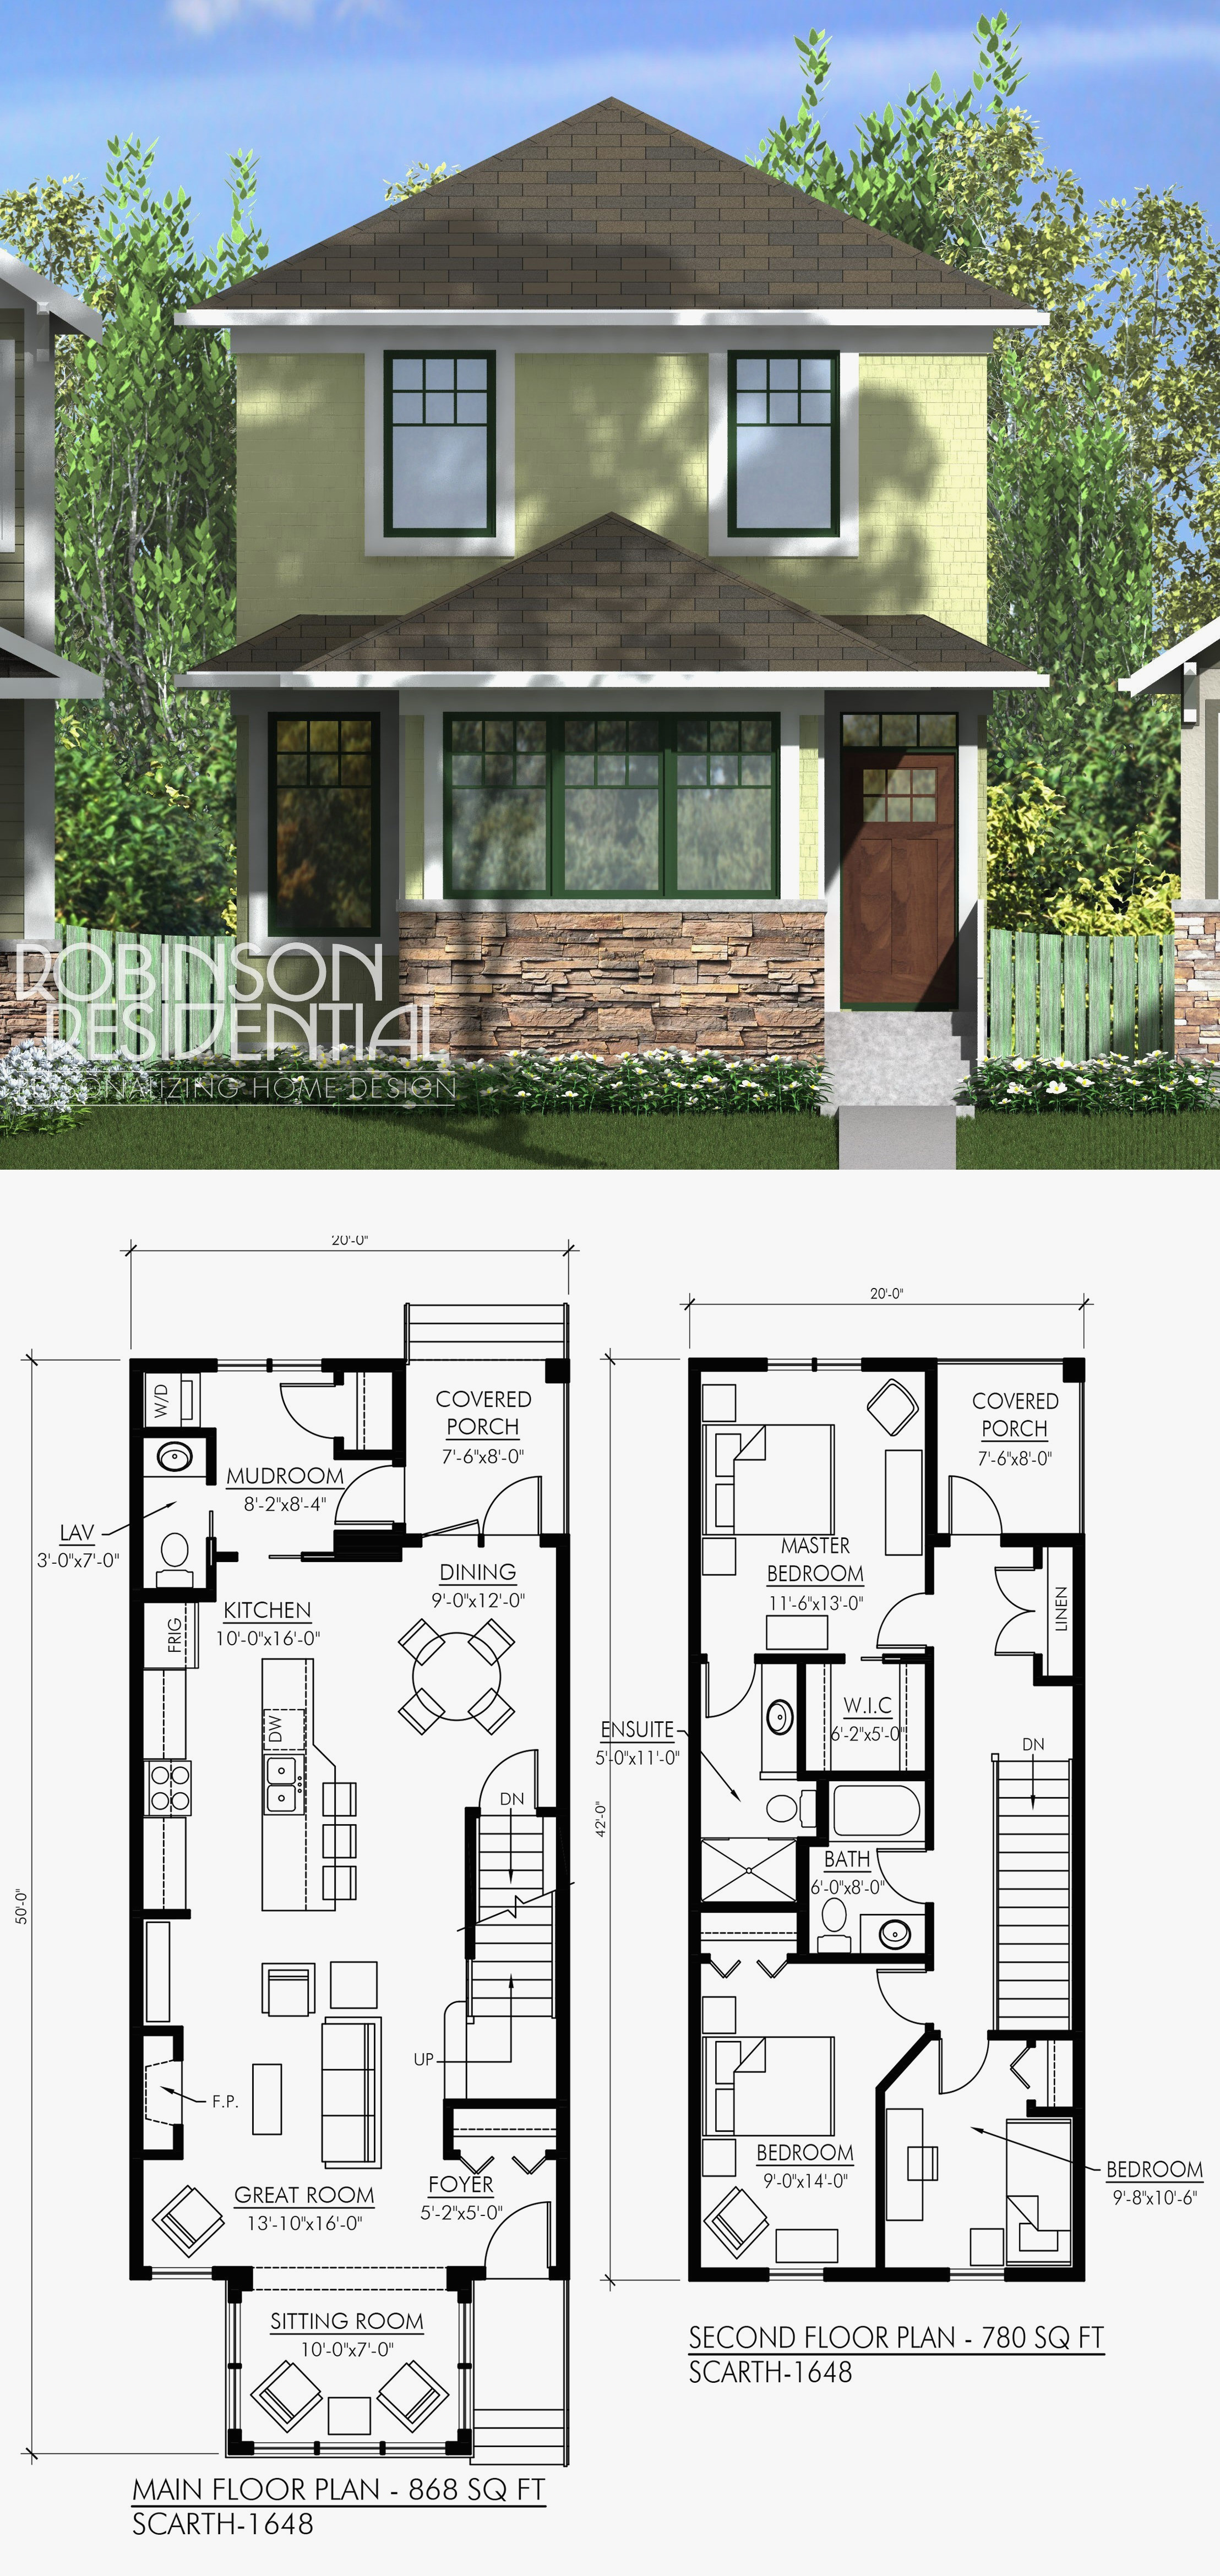door: (983, 1566, 1044, 1659), (483, 1470, 546, 1534), (334, 1462, 396, 1526), (275, 1378, 337, 1442), (477, 1746, 543, 1806), (871, 1590, 931, 1653), (945, 1472, 1005, 1534), (936, 2040, 991, 2101), (873, 1967, 929, 2027), (700, 1659, 756, 1720), (875, 1847, 929, 1907)
